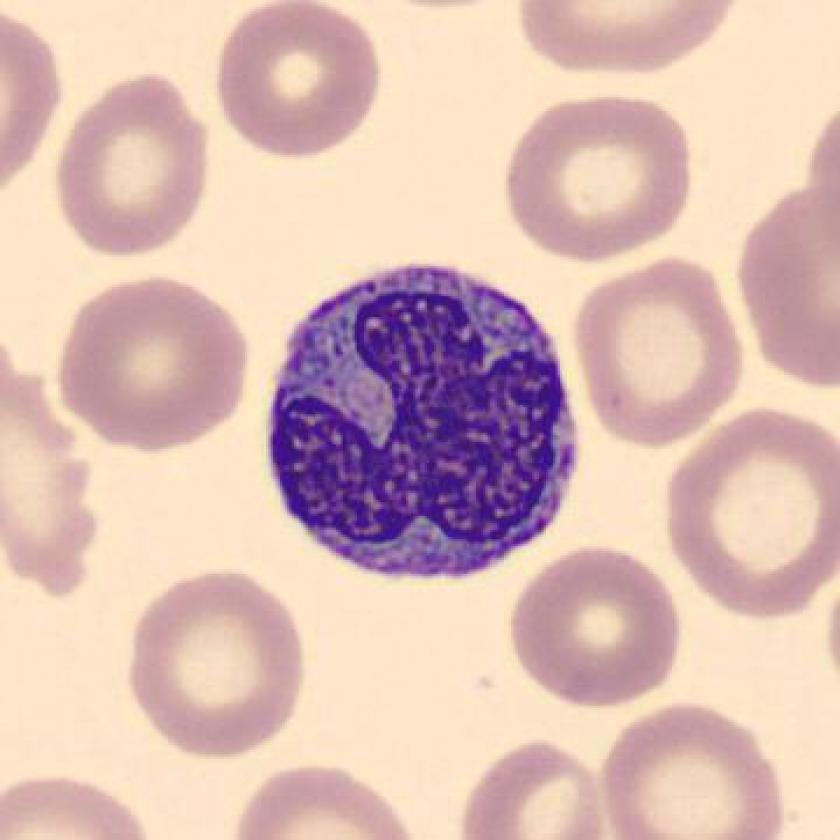monocyte: (248, 240, 601, 601)
